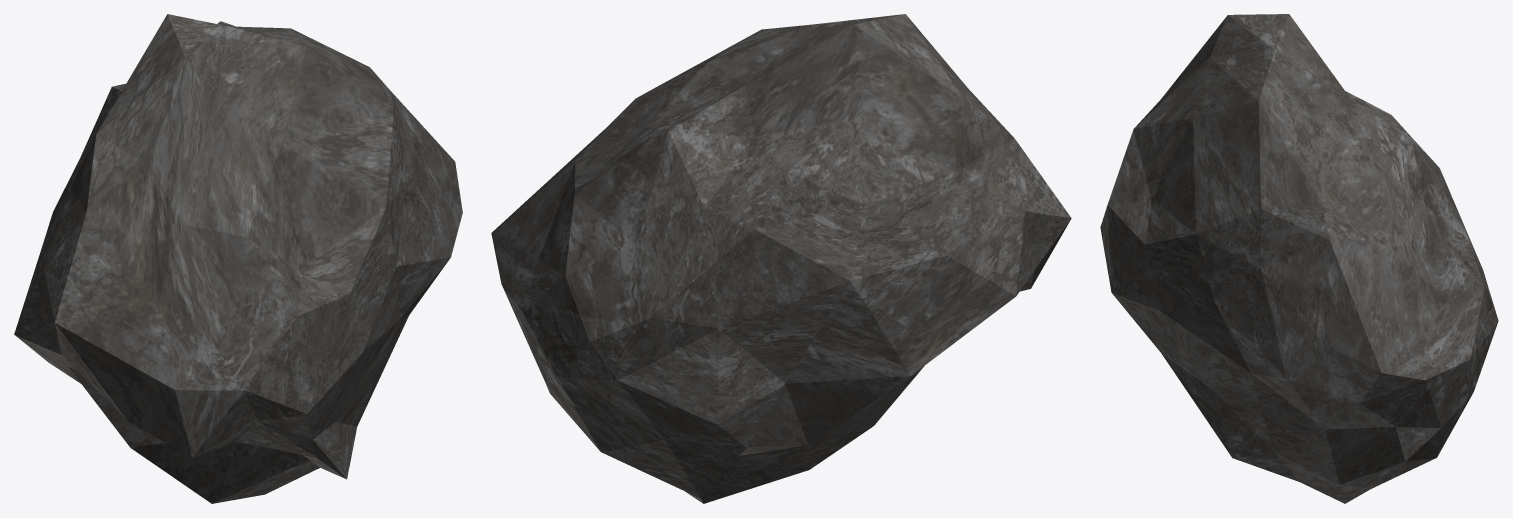
The model's file is Asteroid_02_LOD1.FBX.
The picture shows the model from 3 angles, left to right: view 1: azimuth 30°, elevation 25°; view 2: azimuth 150°, elevation 25°; view 3: azimuth 270°, elevation 25°; orthographic projection. The views are drawn at different scales.
Parts seen in each view (by area): view 1: Asteriod_02_LOD1; view 2: Asteriod_02_LOD1; view 3: Asteriod_02_LOD1.
Boxes of the visible parts, x1,y1,x2,y2 form: Asteriod_02_LOD1: (14, 14, 462, 503); Asteriod_02_LOD1: (491, 14, 1071, 503); Asteriod_02_LOD1: (1100, 14, 1498, 503).
Bounding box in the file's own units: 803 × 791 × 652.
Materials: 1 (1 with a texture image).
